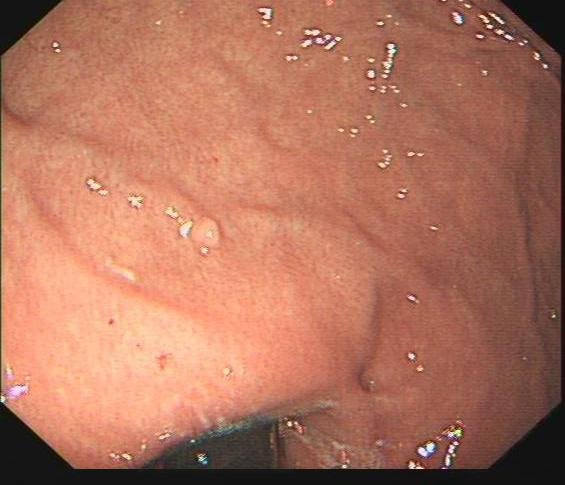Polyp: (170, 195, 243, 262)
